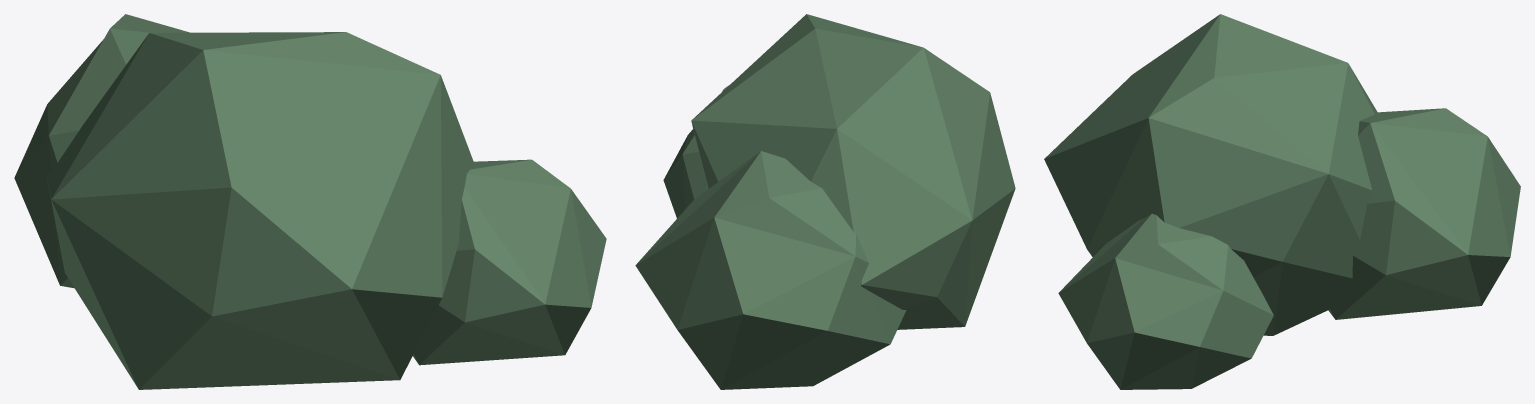
The model's file is Bushes.fbx.
3 renders of one model, left to right at view 1: azimuth 30°, elevation 25°; view 2: azimuth 150°, elevation 25°; view 3: azimuth 270°, elevation 25°, orthographic. The views are drawn at different scales.
Visible parts, largest first — view 1: pPlatonic4; view 2: pPlatonic4; view 3: pPlatonic4.
Part boxes in pixels (bbox=[...]): pPlatonic4: bbox=[14, 14, 606, 389]; pPlatonic4: bbox=[635, 14, 1015, 389]; pPlatonic4: bbox=[1044, 14, 1520, 389].
Bounding box in the file's own units: 8.47 × 6.01 × 9.75.
